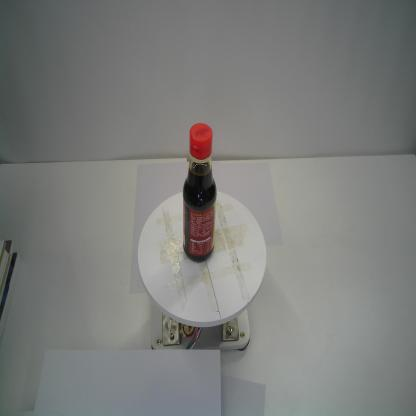Seasoner: (181, 122, 218, 263)
